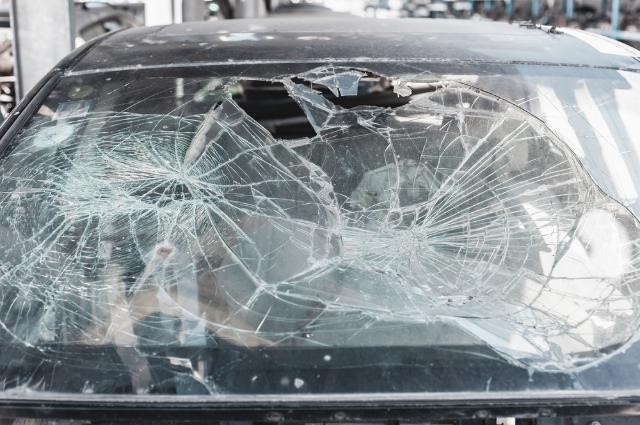glass shatter: (0, 62, 640, 403)
